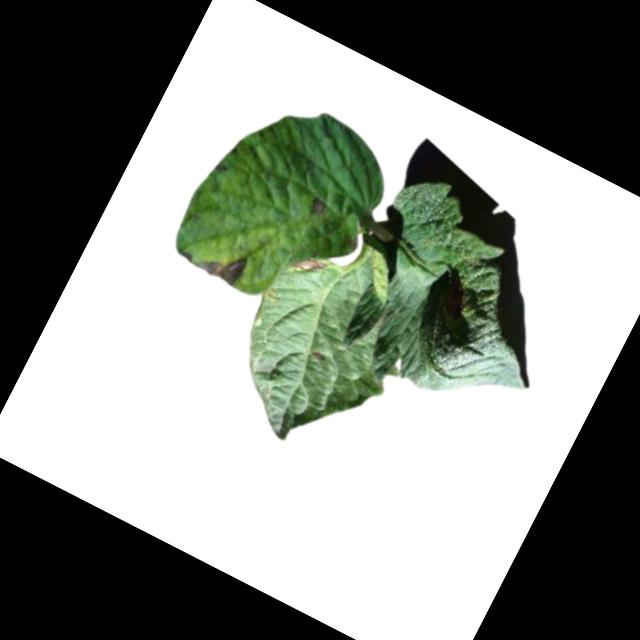Early_blight: (176, 228, 250, 289), (285, 246, 329, 286), (305, 195, 328, 221), (309, 348, 328, 365)
